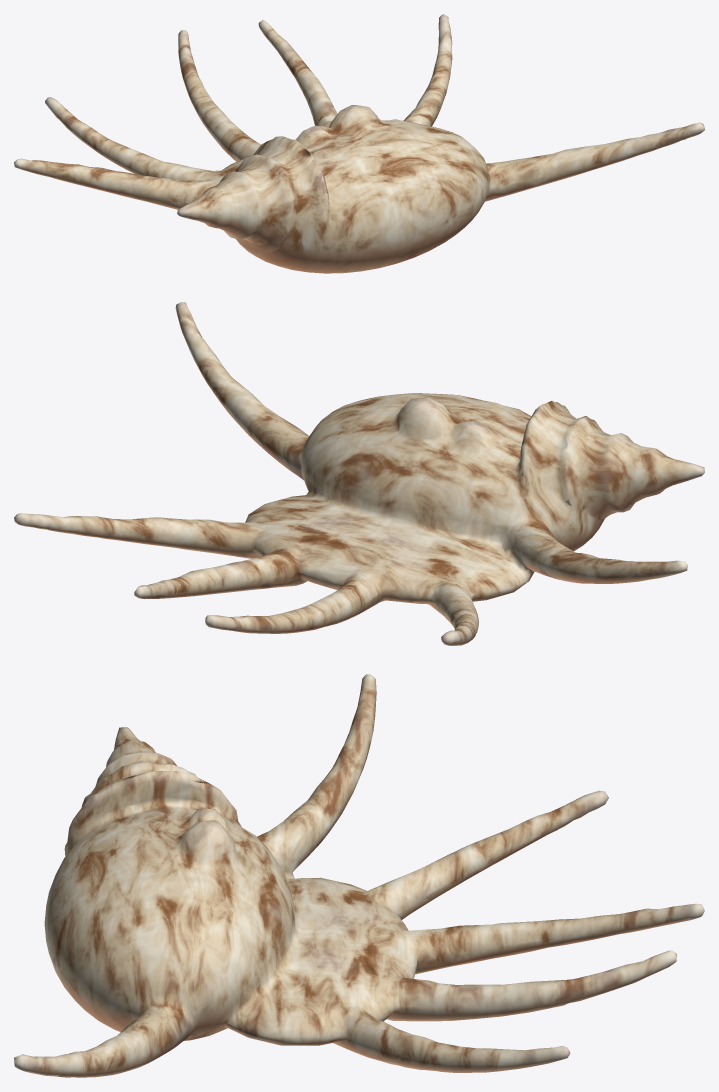
Rendered from Shell_SpiderConch.gltf.
The picture shows the model from 3 angles, top to bottom: view 1: azimuth 30°, elevation 25°; view 2: azimuth 150°, elevation 25°; view 3: azimuth 270°, elevation 25°; orthographic projection. The views are drawn at different scales.
Visible parts, largest first — view 1: Shell_SpiderConch; view 2: Shell_SpiderConch; view 3: Shell_SpiderConch.
Part boxes in pixels (x1=…): Shell_SpiderConch: x1=14, y1=14, x2=704, y2=273; Shell_SpiderConch: x1=14, y1=302, x2=704, y2=645; Shell_SpiderConch: x1=14, y1=674, x2=704, y2=1077.
Size of the model in its own units: 0.3421 by 0.0814 by 0.2642.
1 material, 1 textured.
